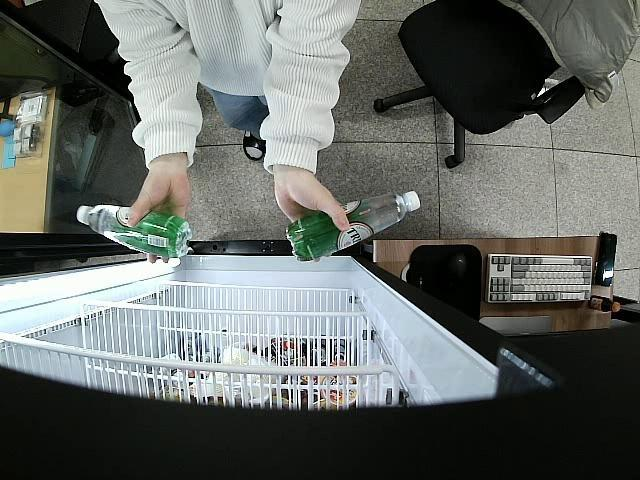18_trevi: (285, 187, 419, 261), (78, 203, 190, 259)
